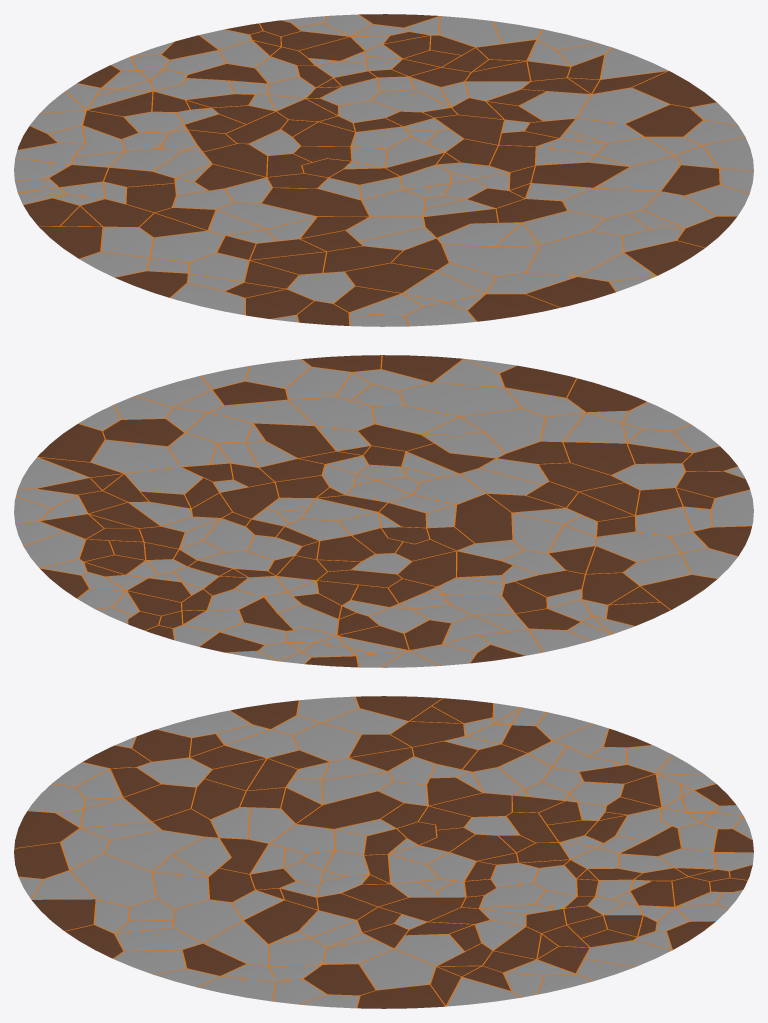
Rendered from MagmaCavern_Floor.FBX.
The picture shows the model from 3 angles, top to bottom: view 1: azimuth 30°, elevation 25°; view 2: azimuth 150°, elevation 25°; view 3: azimuth 270°, elevation 25°; orthographic projection.
Visible parts, largest first — view 1: MagmaCavern_Floor; view 2: MagmaCavern_Floor; view 3: MagmaCavern_Floor.
Part boxes in pixels (x1=…): MagmaCavern_Floor: x1=14, y1=14, x2=753, y2=326; MagmaCavern_Floor: x1=14, y1=355, x2=753, y2=667; MagmaCavern_Floor: x1=14, y1=696, x2=753, y2=1008.
Size of the model in its own units: 10000 by 1.18 by 10000.
